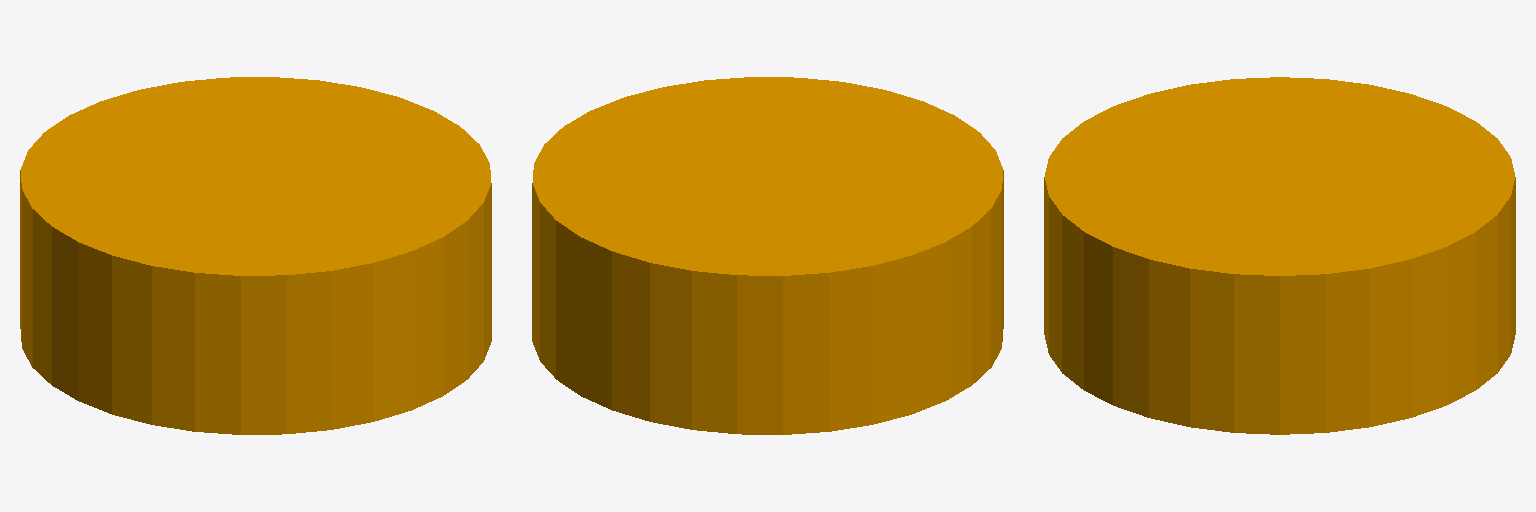
The robot description file, URDF, robot "donut":
<?xml version="1.0"?>
<robot name="donut">

  <link name="base_link">
    <visual>
      <geometry>
        <mesh filename="package://physical-experiment/downsampled4blender/Ftape.stl" scale="10 10 10"/>
      </geometry>
    </visual>
    <collision>
      <geometry>
        <mesh filename="package://physical-experiment/downsampled4blender/Ftape.stl" scale="10 10 10"/>
      </geometry>
    </collision>
  </link>

</robot>

--- Facts derived from the render (not from the file) ---
3 views of the same robot in one strip: view 1: azimuth 30°, elevation 25°; view 2: azimuth 150°, elevation 25°; view 3: azimuth 270°, elevation 25° (orthographic).
Model donut with 1 links and 0 joints (none), rooted at base_link, posed all joints at 0.
Visible links, largest first — view 1: base_link; view 2: base_link; view 3: base_link.
Boxes of the visible links, x1=… form: base_link: x1=20, y1=77, x2=491, y2=434; base_link: x1=532, y1=77, x2=1003, y2=434; base_link: x1=1044, y1=77, x2=1515, y2=434.
Bounding box of the posed robot: 0.537 × 0.537 × 0.1997 m (x, y, z).
Meshes: 1 distinct files referenced, 1 mesh visuals loaded (1 binary STL).